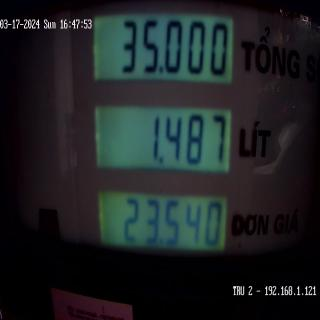screen: (89, 2, 239, 290)
